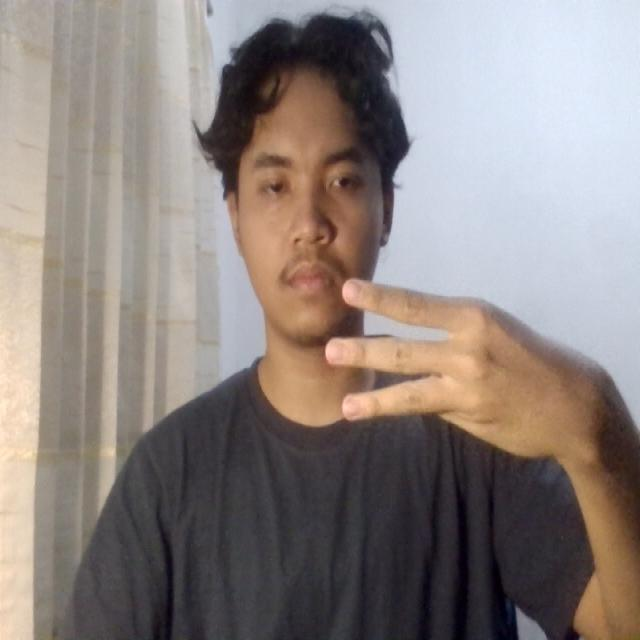E: (297, 254, 568, 482)
